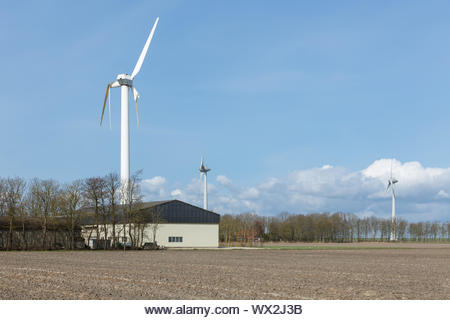faulty: (88, 17, 164, 176), (190, 154, 217, 209)
